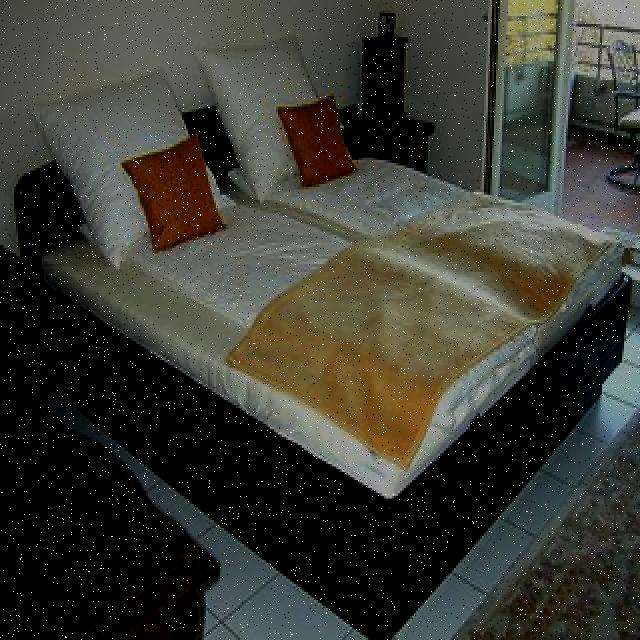bed: (23, 67, 622, 483)
